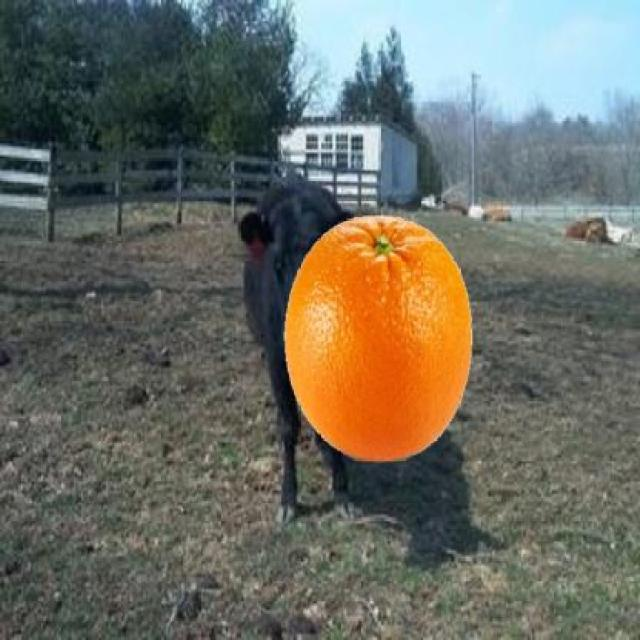Orange: (280, 212, 474, 463)
